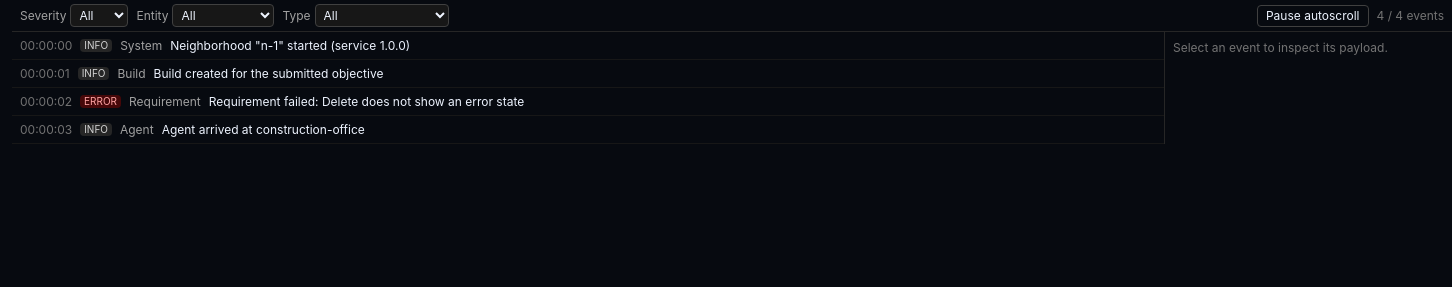
Test case: EventTimeline — payload inspection › keeps the control disabled, with a stated reason, for an event that declares none
Click the button with test id "timeline-row" at (46,45), box x1=12 y1=32 x2=1164 y2=60
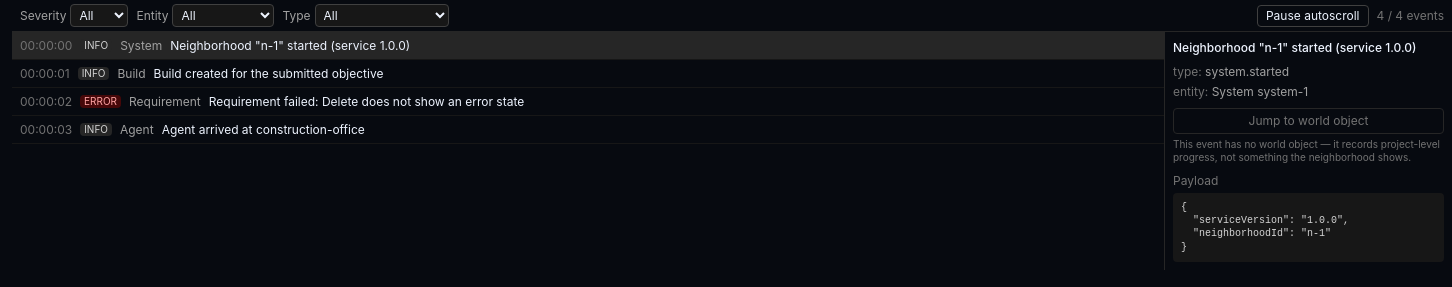
Check: the button "Jump to world object" is disabled, box x1=1173 y1=108 x2=1444 y2=134
